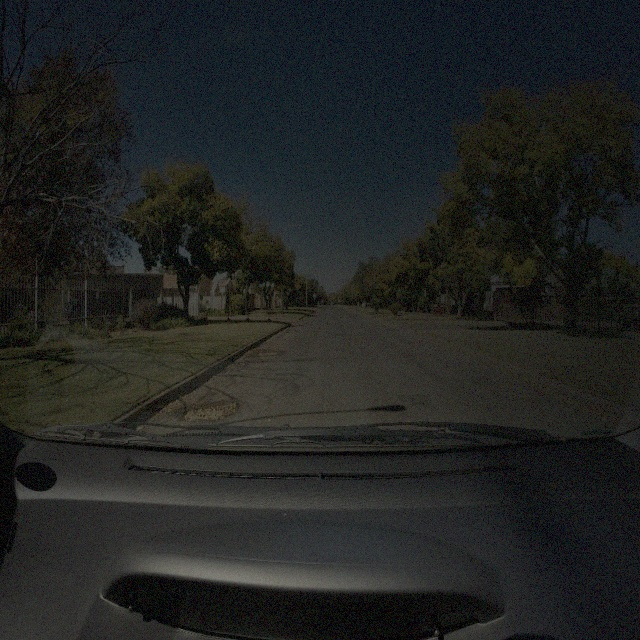pothole: (170, 394, 244, 424), (253, 344, 282, 357)
